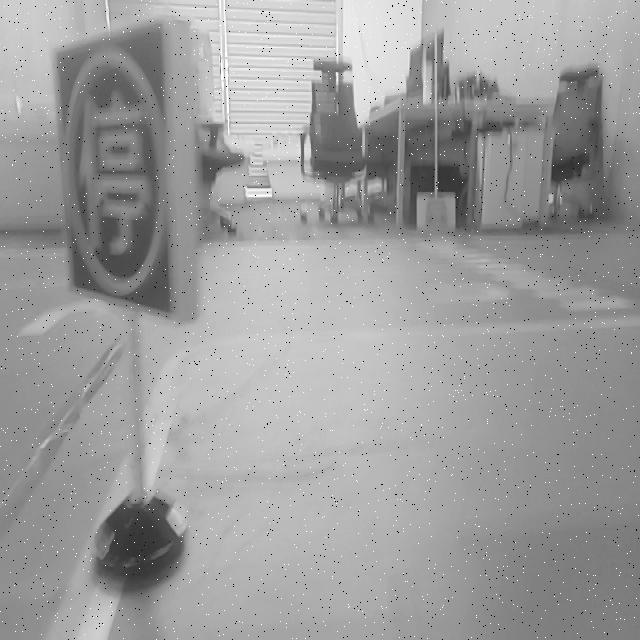right_lane: (44, 359, 189, 640)
